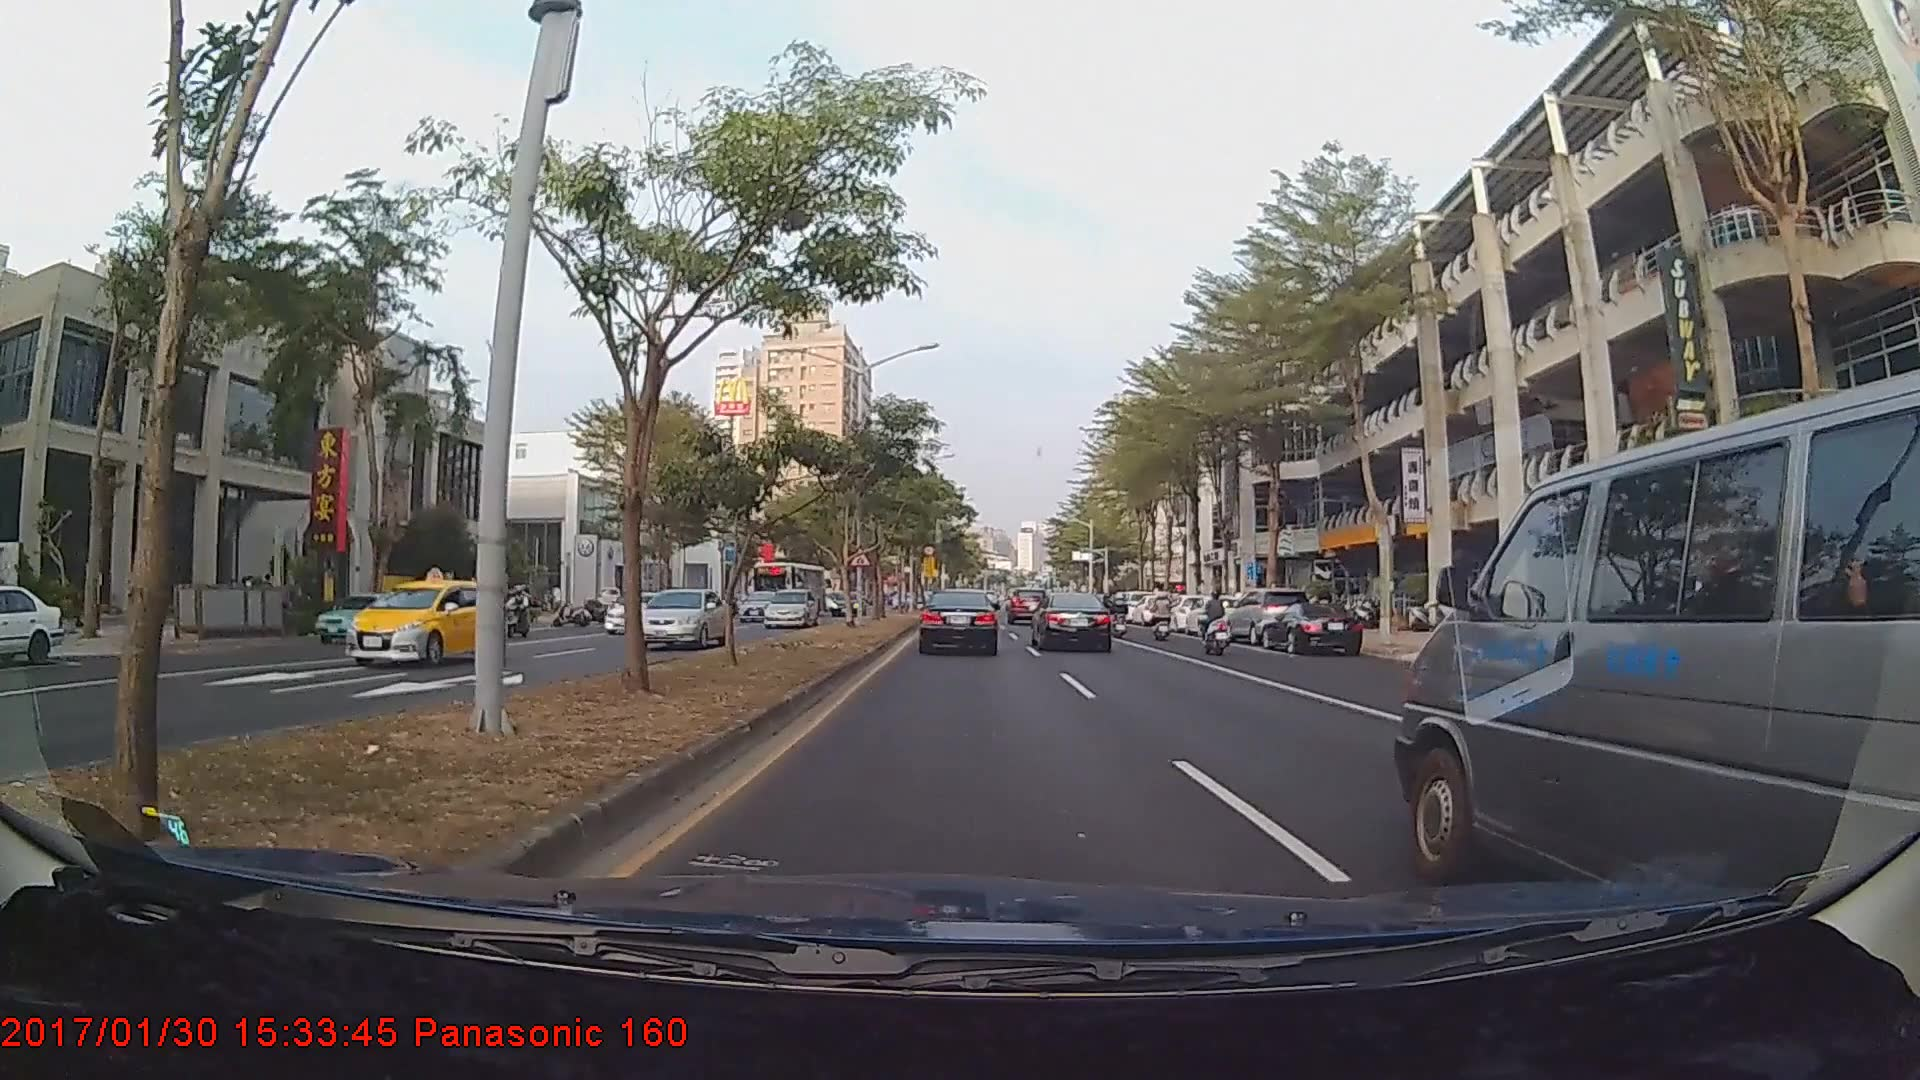rider: (1198, 588, 1235, 660), (1146, 586, 1177, 644), (1109, 588, 1131, 637)
vehicle: (1410, 397, 1913, 909), (343, 573, 508, 670), (639, 588, 730, 650), (917, 589, 999, 655), (1228, 588, 1314, 648), (1261, 602, 1362, 652), (748, 560, 827, 623), (1032, 591, 1111, 653), (313, 592, 409, 642), (602, 590, 673, 633), (1184, 592, 1242, 634), (760, 588, 816, 630), (1005, 588, 1048, 625), (825, 589, 862, 617)
